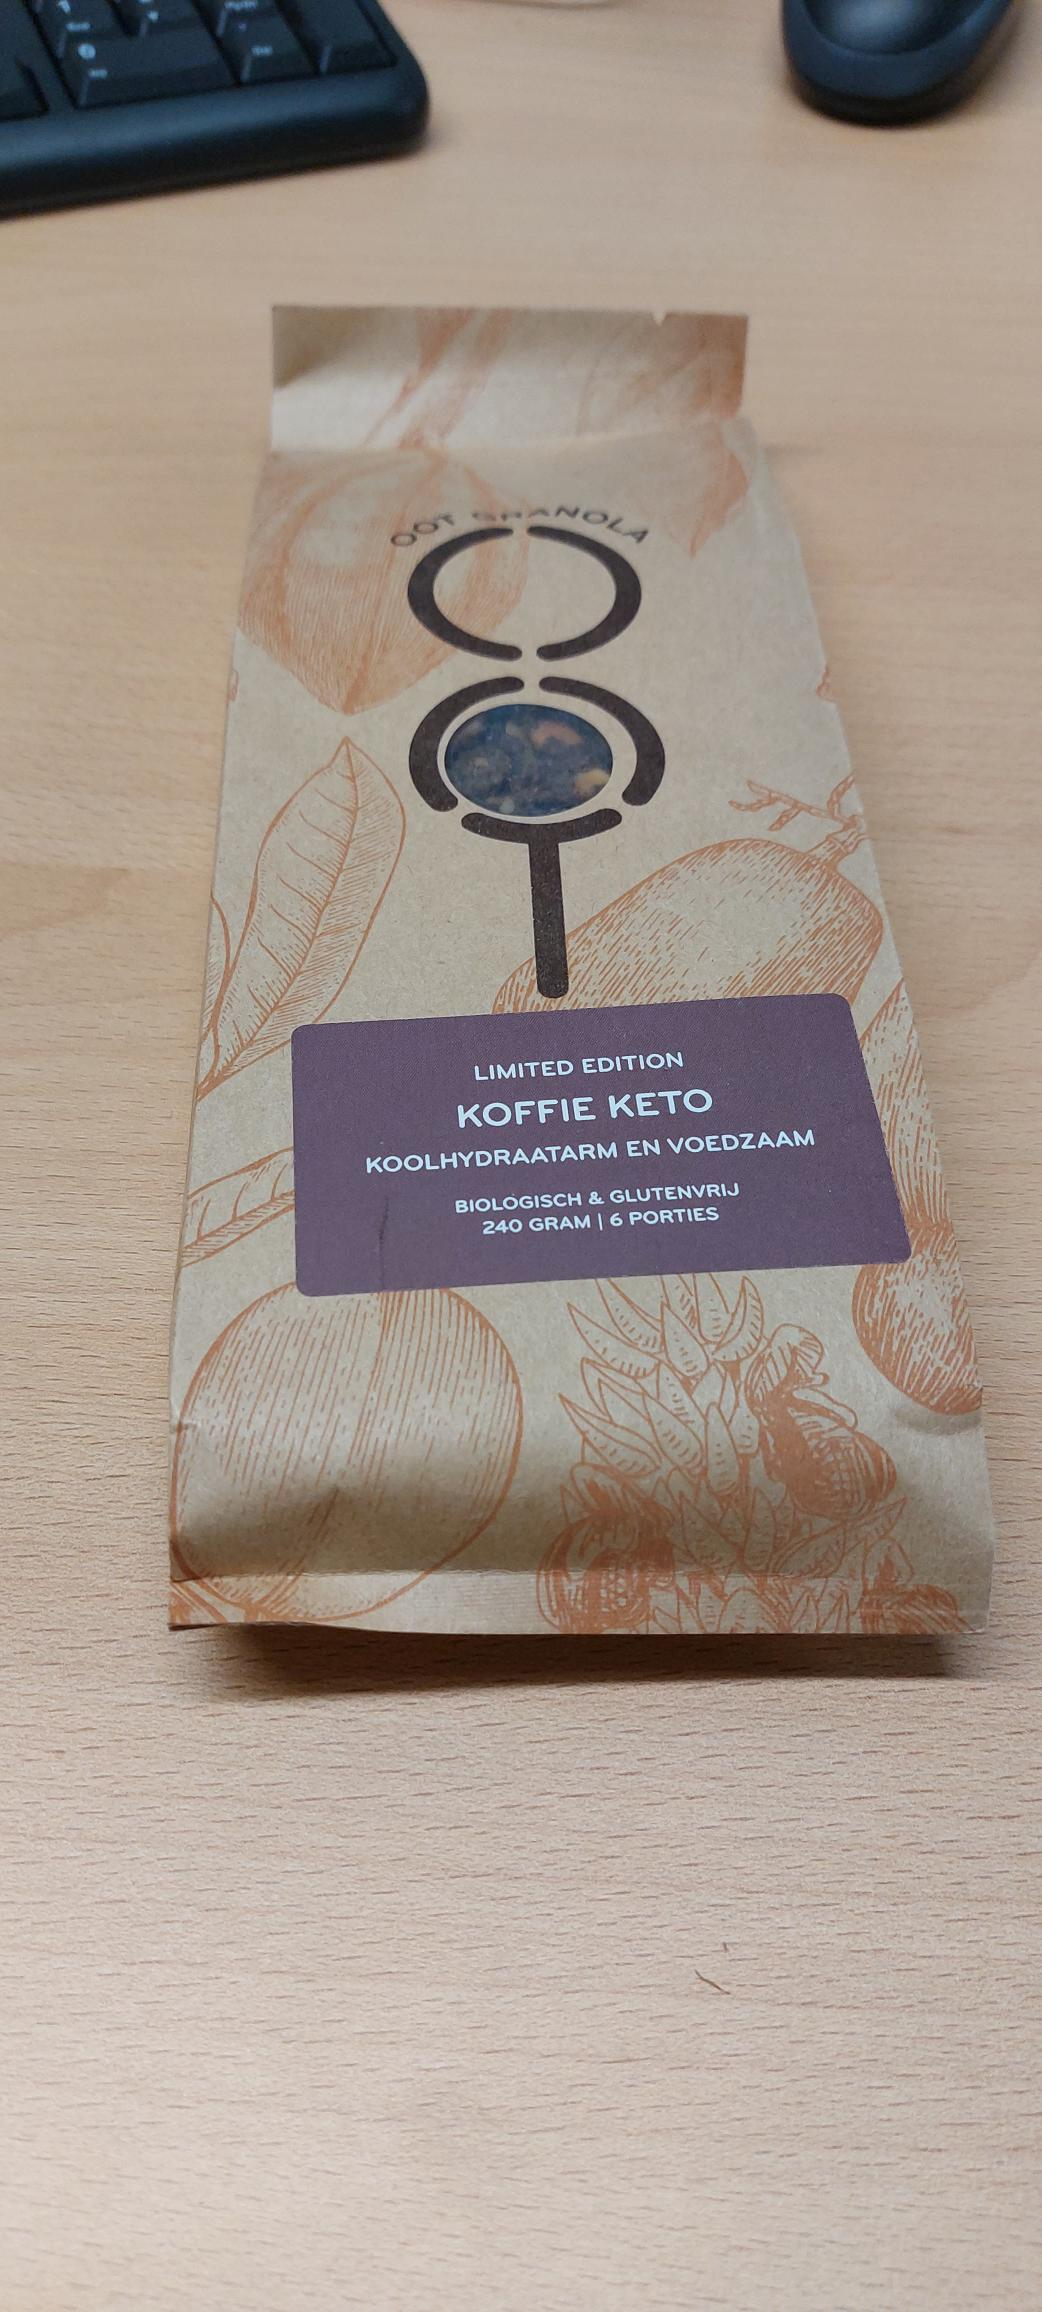KoffieKeto: (255, 997, 917, 1306)
